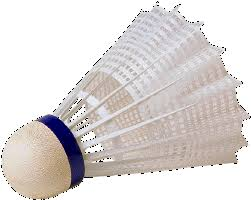shuttle: (3, 5, 250, 200)
